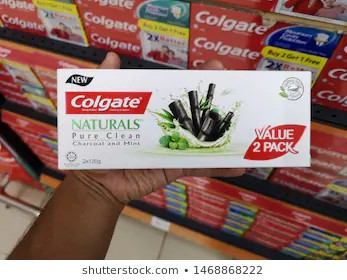colgate-family: (57, 68, 313, 173)
